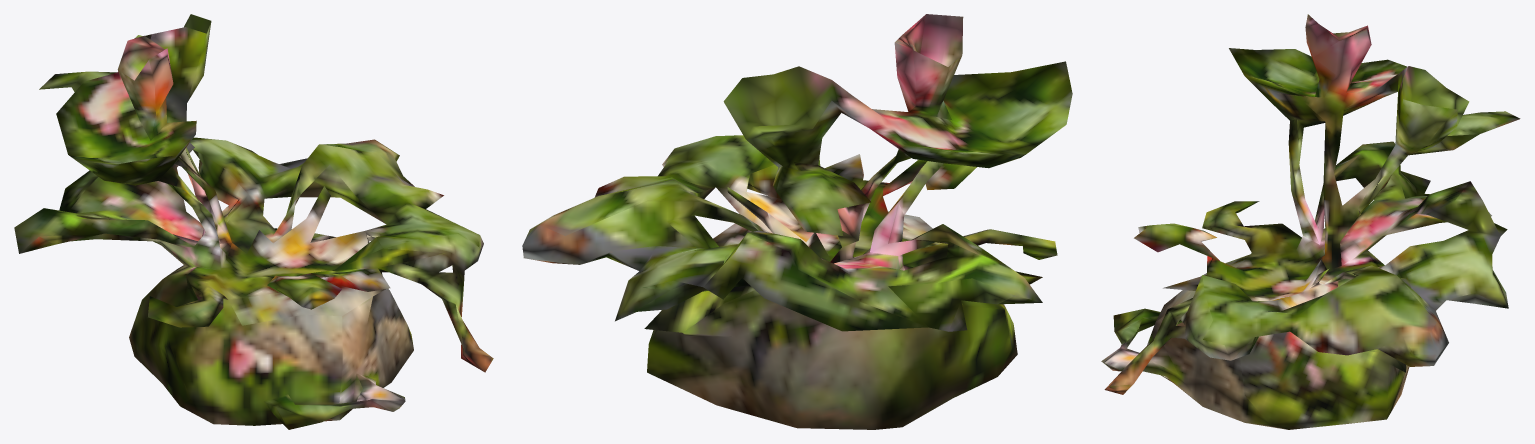
File: SpringDecor_FirstRoom_ForestPlant.fbx
The picture shows the model from 3 angles, left to right: view 1: azimuth 30°, elevation 25°; view 2: azimuth 150°, elevation 25°; view 3: azimuth 270°, elevation 25°; orthographic projection. The views are drawn at different scales.
Parts seen in each view (by area): view 1: SpringDecor_FirstRoom_ForestPlant_Mesh; view 2: SpringDecor_FirstRoom_ForestPlant_Mesh; view 3: SpringDecor_FirstRoom_ForestPlant_Mesh.
Part boxes in pixels (x1,y1,x2,y2): SpringDecor_FirstRoom_ForestPlant_Mesh: (14,14,493,429); SpringDecor_FirstRoom_ForestPlant_Mesh: (522,14,1072,429); SpringDecor_FirstRoom_ForestPlant_Mesh: (1101,14,1520,429).
Bounding box in the file's own units: 6 × 4.67 × 5.72.
1 material, 1 textured.
